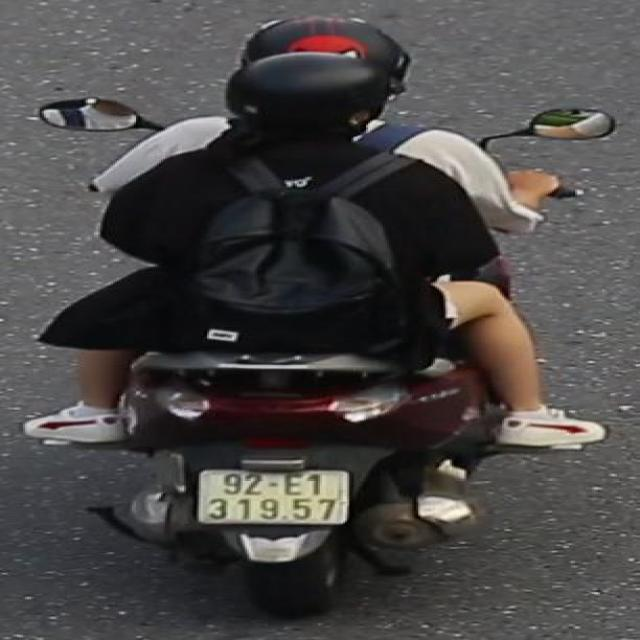LP: (192, 463, 352, 525)
helmet: (209, 53, 402, 146), (236, 7, 418, 87)
